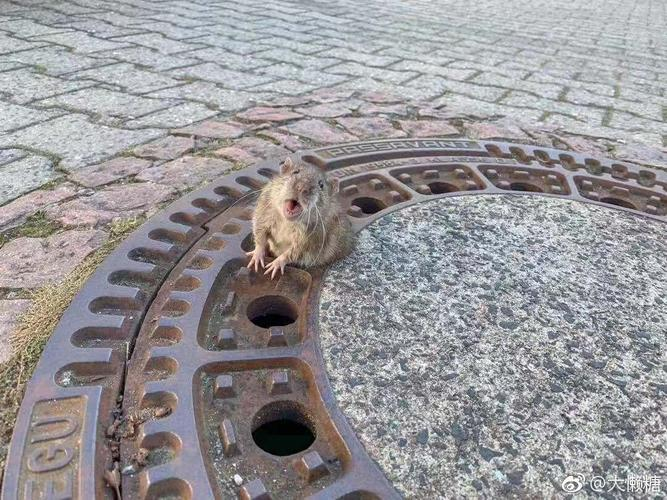rat: (239, 152, 370, 277)
